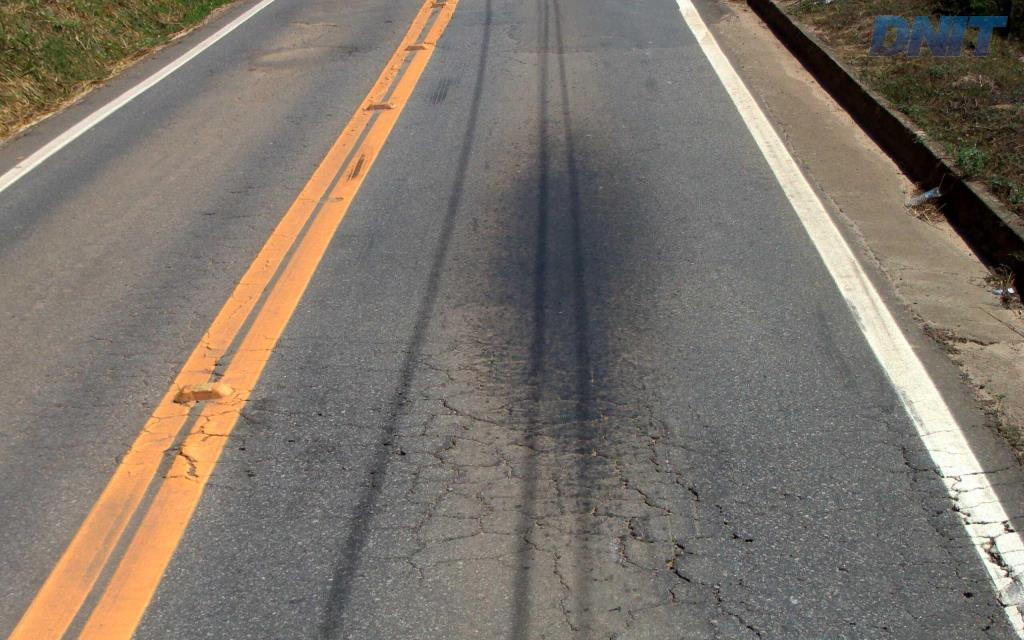crack: (427, 434, 468, 484), (403, 463, 433, 520), (514, 421, 558, 458)
